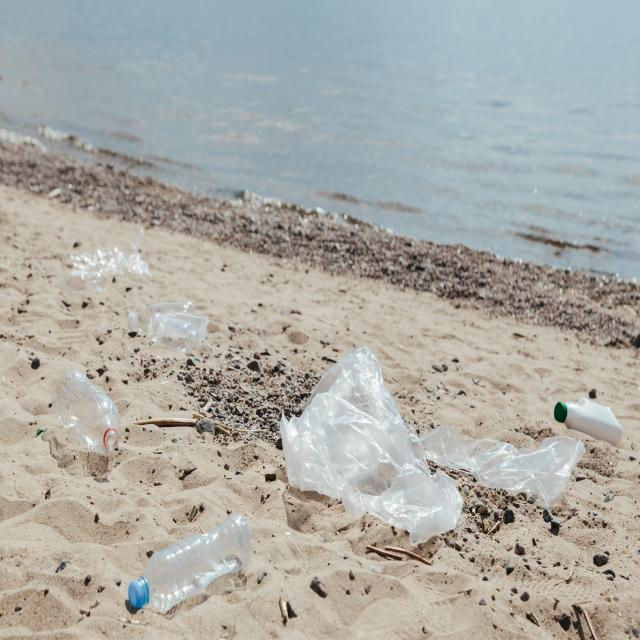plastic: (324, 387, 418, 525), (137, 528, 256, 593), (125, 287, 211, 352), (63, 374, 119, 461)
